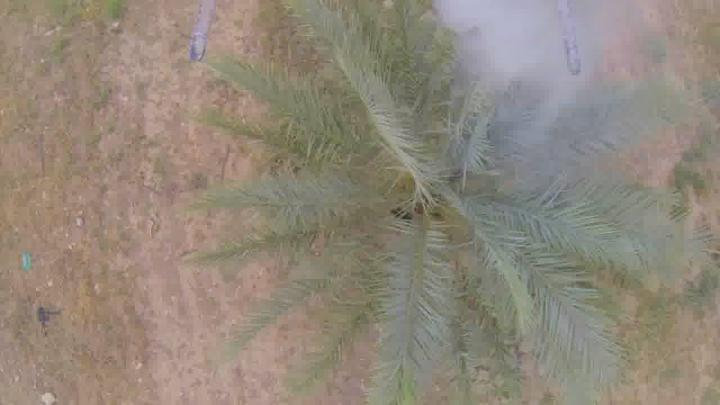Date-Palm-Crown: (293, 51, 587, 341)
